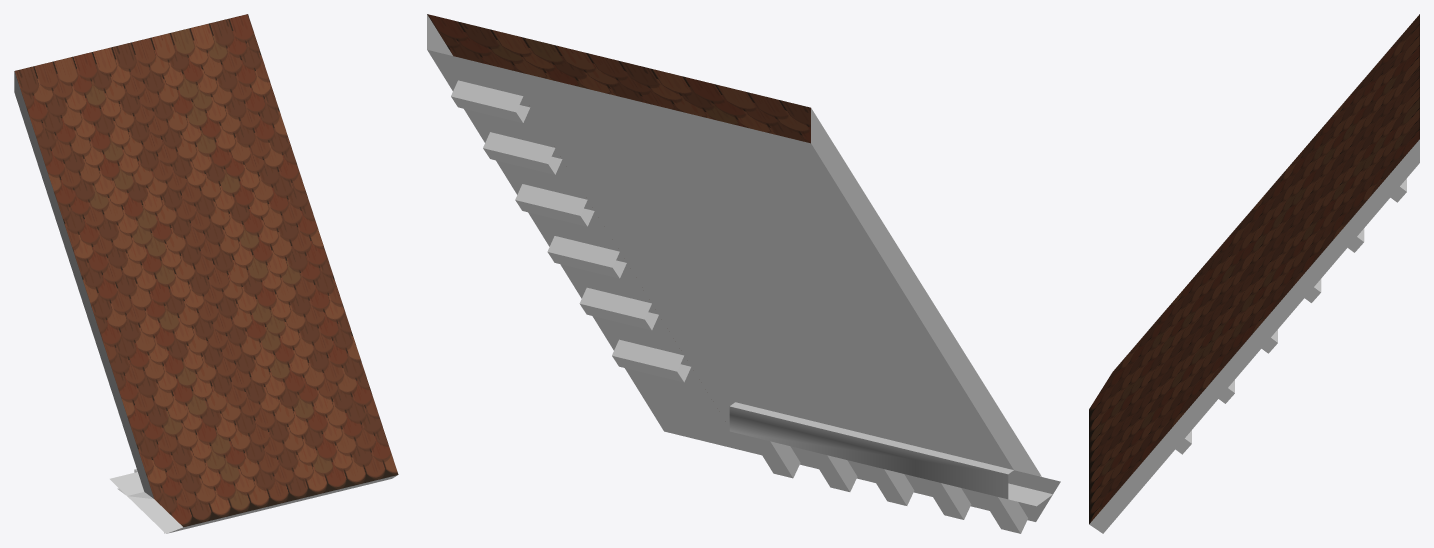
The model's file is Roof_End_Angle_01_B.FBX.
3 renders of one model, left to right at view 1: azimuth 30°, elevation 25°; view 2: azimuth 150°, elevation 25°; view 3: azimuth 270°, elevation 25°, orthographic. The views are drawn at different scales.
Visible parts, largest first — view 1: Roof_End_Angle_01_B; view 2: Roof_End_Angle_01_B; view 3: Roof_End_Angle_01_B.
Boxes of the visible parts, x1,y1,x2,y2 form: Roof_End_Angle_01_B: [14, 14, 398, 533]; Roof_End_Angle_01_B: [427, 14, 1060, 533]; Roof_End_Angle_01_B: [1089, 14, 1419, 533].
Bounding box in the file's own units: 7.57 × 10.04 × 7.53.
